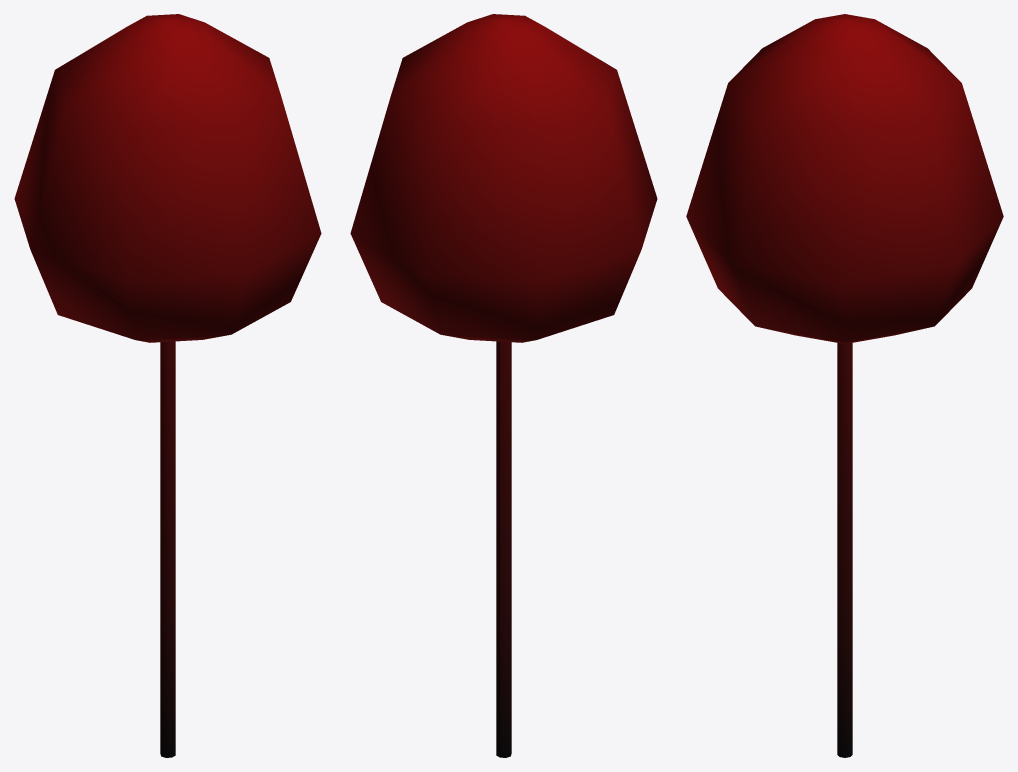
Rendered from KM_Plant3.FBX.
The picture shows the model from 3 angles, left to right: view 1: azimuth 30°, elevation 25°; view 2: azimuth 150°, elevation 25°; view 3: azimuth 270°, elevation 25°; orthographic projection.
Visible parts, largest first — view 1: Cylinder017; view 2: Cylinder017; view 3: Cylinder017.
Boxes of the visible parts, left/top/right/bottom form: Cylinder017: left=14, top=14, right=321, bottom=757; Cylinder017: left=350, top=14, right=657, bottom=757; Cylinder017: left=686, top=14, right=1003, bottom=757.
Bounding box in the file's own units: 133 × 338 × 133.
